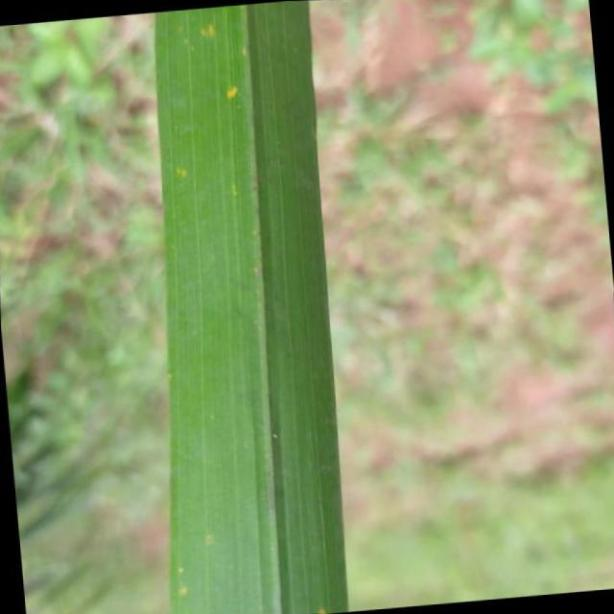Kalium: (155, 0, 352, 614)
